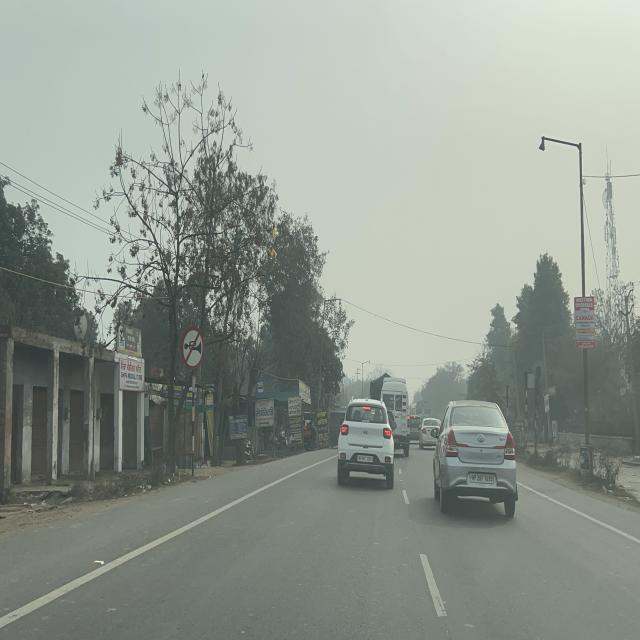HORN_PROHIBITED: (182, 328, 204, 370)
INFORMATION: (256, 377, 265, 398)
